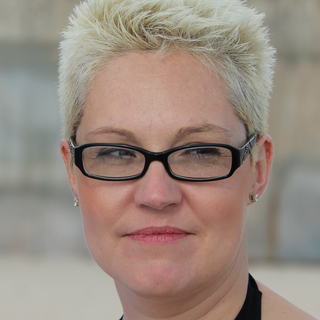eye: (83, 135, 147, 169), (173, 140, 228, 169)
